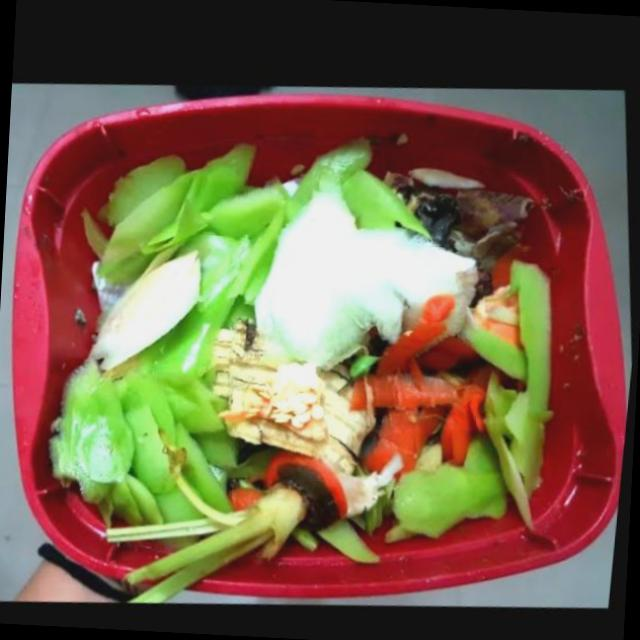vo_rau_cu: (112, 446, 353, 599), (259, 206, 460, 364), (486, 253, 556, 510), (102, 165, 229, 285), (91, 248, 204, 371), (147, 361, 241, 465), (195, 221, 282, 333), (334, 138, 434, 231), (234, 357, 334, 449), (110, 304, 220, 387), (63, 378, 141, 488), (376, 297, 470, 378), (132, 404, 199, 515), (102, 151, 192, 225), (362, 396, 452, 470), (355, 360, 491, 403), (209, 176, 296, 237), (444, 376, 490, 459)
